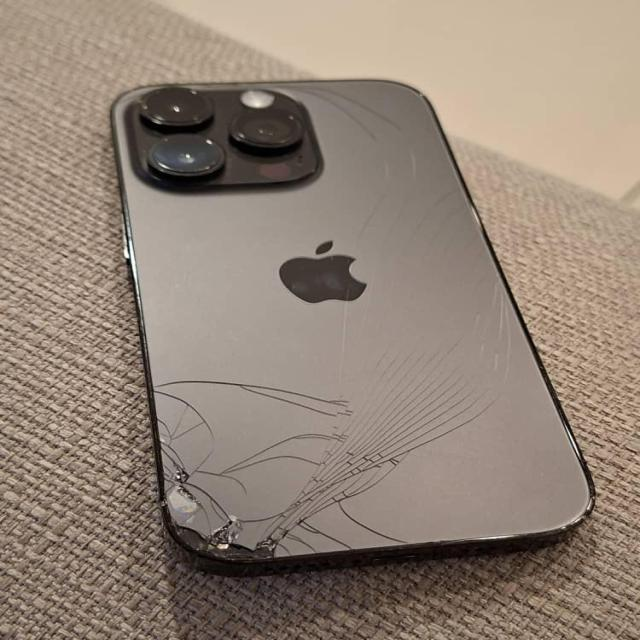Crack: (156, 325, 569, 555)
